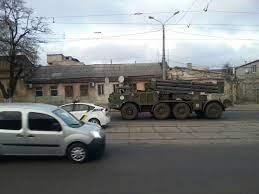car: (1, 103, 108, 163), (59, 102, 108, 124)
rszo: (109, 75, 228, 120)
